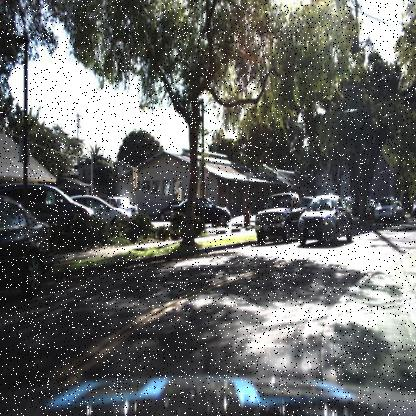car: (0, 188, 52, 298), (2, 184, 96, 237), (292, 192, 357, 245), (253, 192, 306, 246), (170, 198, 232, 224), (95, 195, 131, 236), (79, 192, 129, 220), (104, 193, 141, 221), (374, 193, 398, 225), (110, 192, 141, 216), (154, 196, 178, 226), (158, 202, 182, 220), (393, 198, 405, 226), (366, 192, 378, 214)
